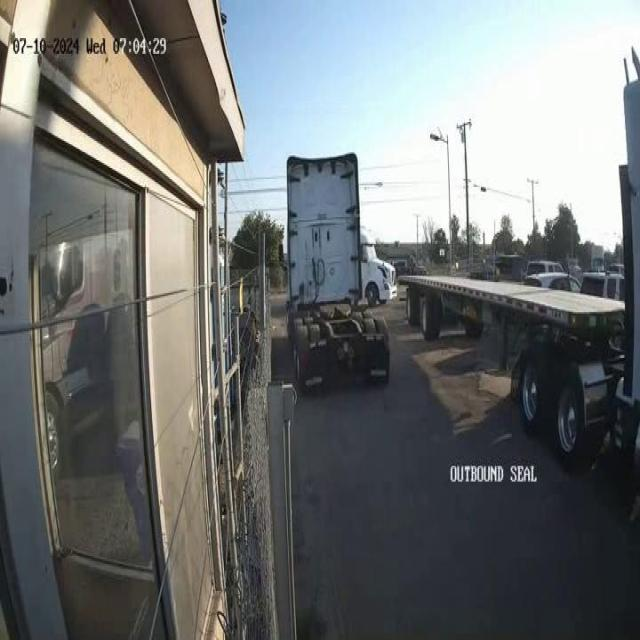TRUCK_IN: (407, 58, 630, 468)
TRUCK_OUT: (282, 149, 391, 404)
